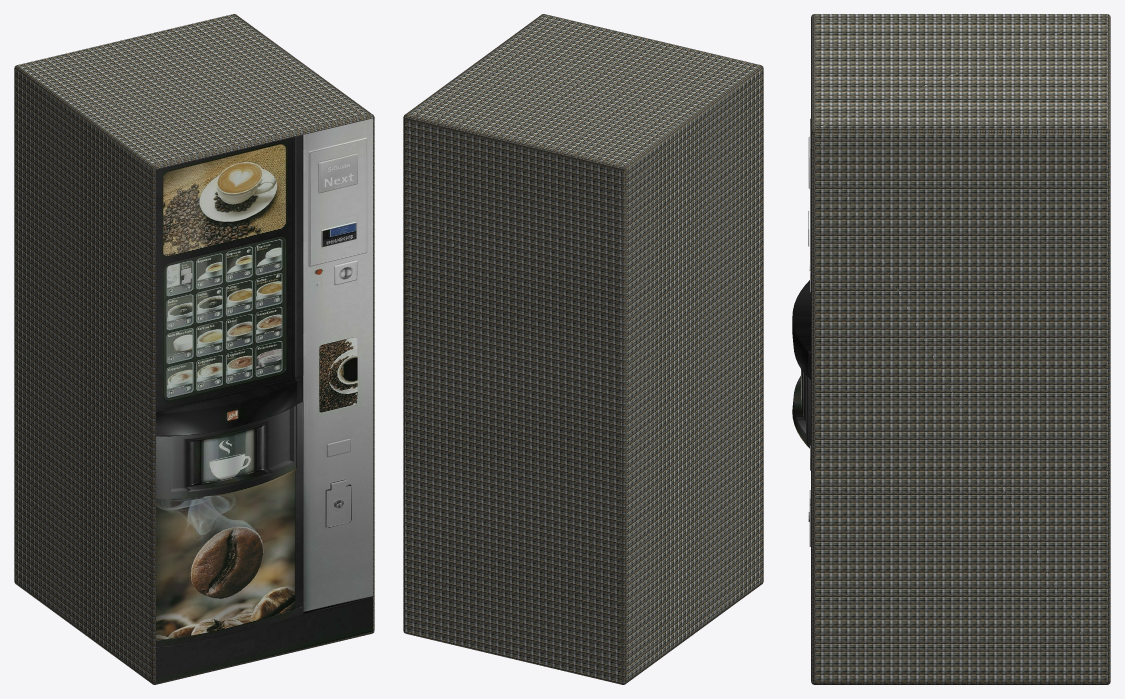
Rendered from Distributeur cafe.glb.
3 views of the same model, side by side, from view 1: azimuth 30°, elevation 25°; view 2: azimuth 150°, elevation 25°; view 3: azimuth 270°, elevation 25° (orthographic). The views are drawn at different scales.
Visible parts, largest first — view 1: Entity_1; view 2: Entity_1; view 3: Entity_1.
Boxes of the visible parts, box(x1,y1,x2,y2) form: Entity_1: box(14, 14, 374, 684); Entity_1: box(403, 14, 763, 684); Entity_1: box(792, 14, 1110, 684).
Bounding box in the file's own units: 0.806 × 1.8 × 0.9343.
2 materials, 2 textured.
